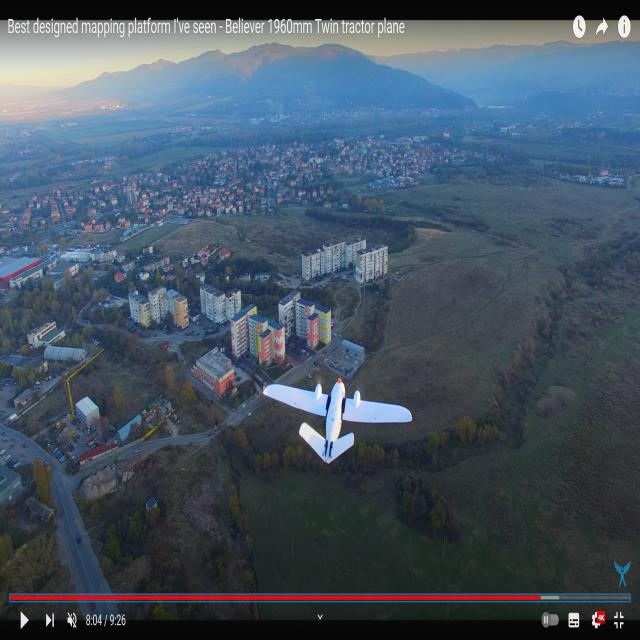iha: (264, 404, 414, 427)
